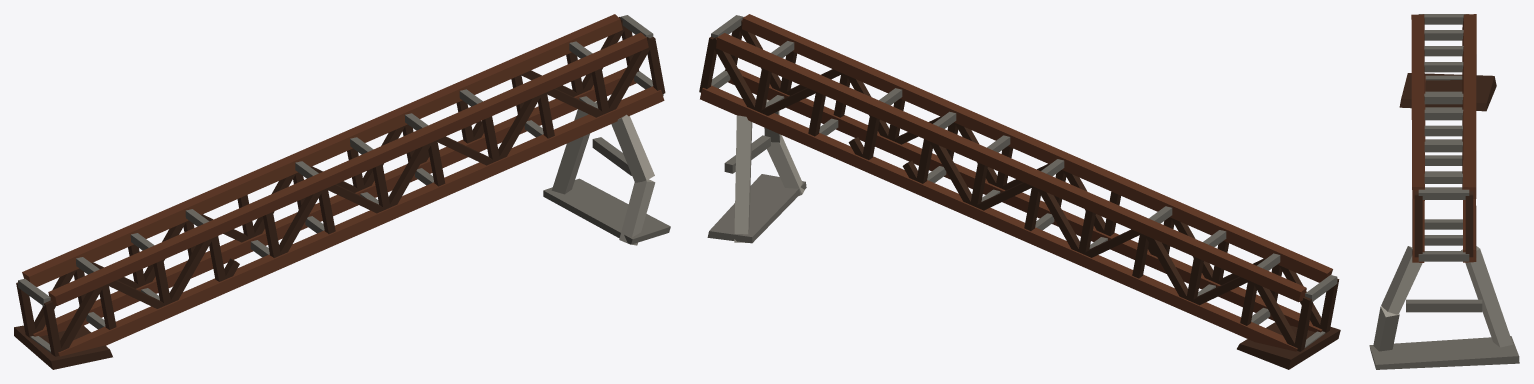
The model's file is hull_gantry.glb.
The picture shows the model from 3 angles, left to right: view 1: azimuth 30°, elevation 25°; view 2: azimuth 150°, elevation 25°; view 3: azimuth 270°, elevation 25°; orthographic projection.
Visible parts, largest first — view 1: hull_gantry; view 2: hull_gantry; view 3: hull_gantry.
Boxes of the visible parts, <box> form: hull_gantry: <box>14,14,670,369</box>; hull_gantry: <box>699,14,1340,369</box>; hull_gantry: <box>1369,14,1519,369</box>.
Bounding box in the file's own units: 44.49 × 12.98 × 9.44.
